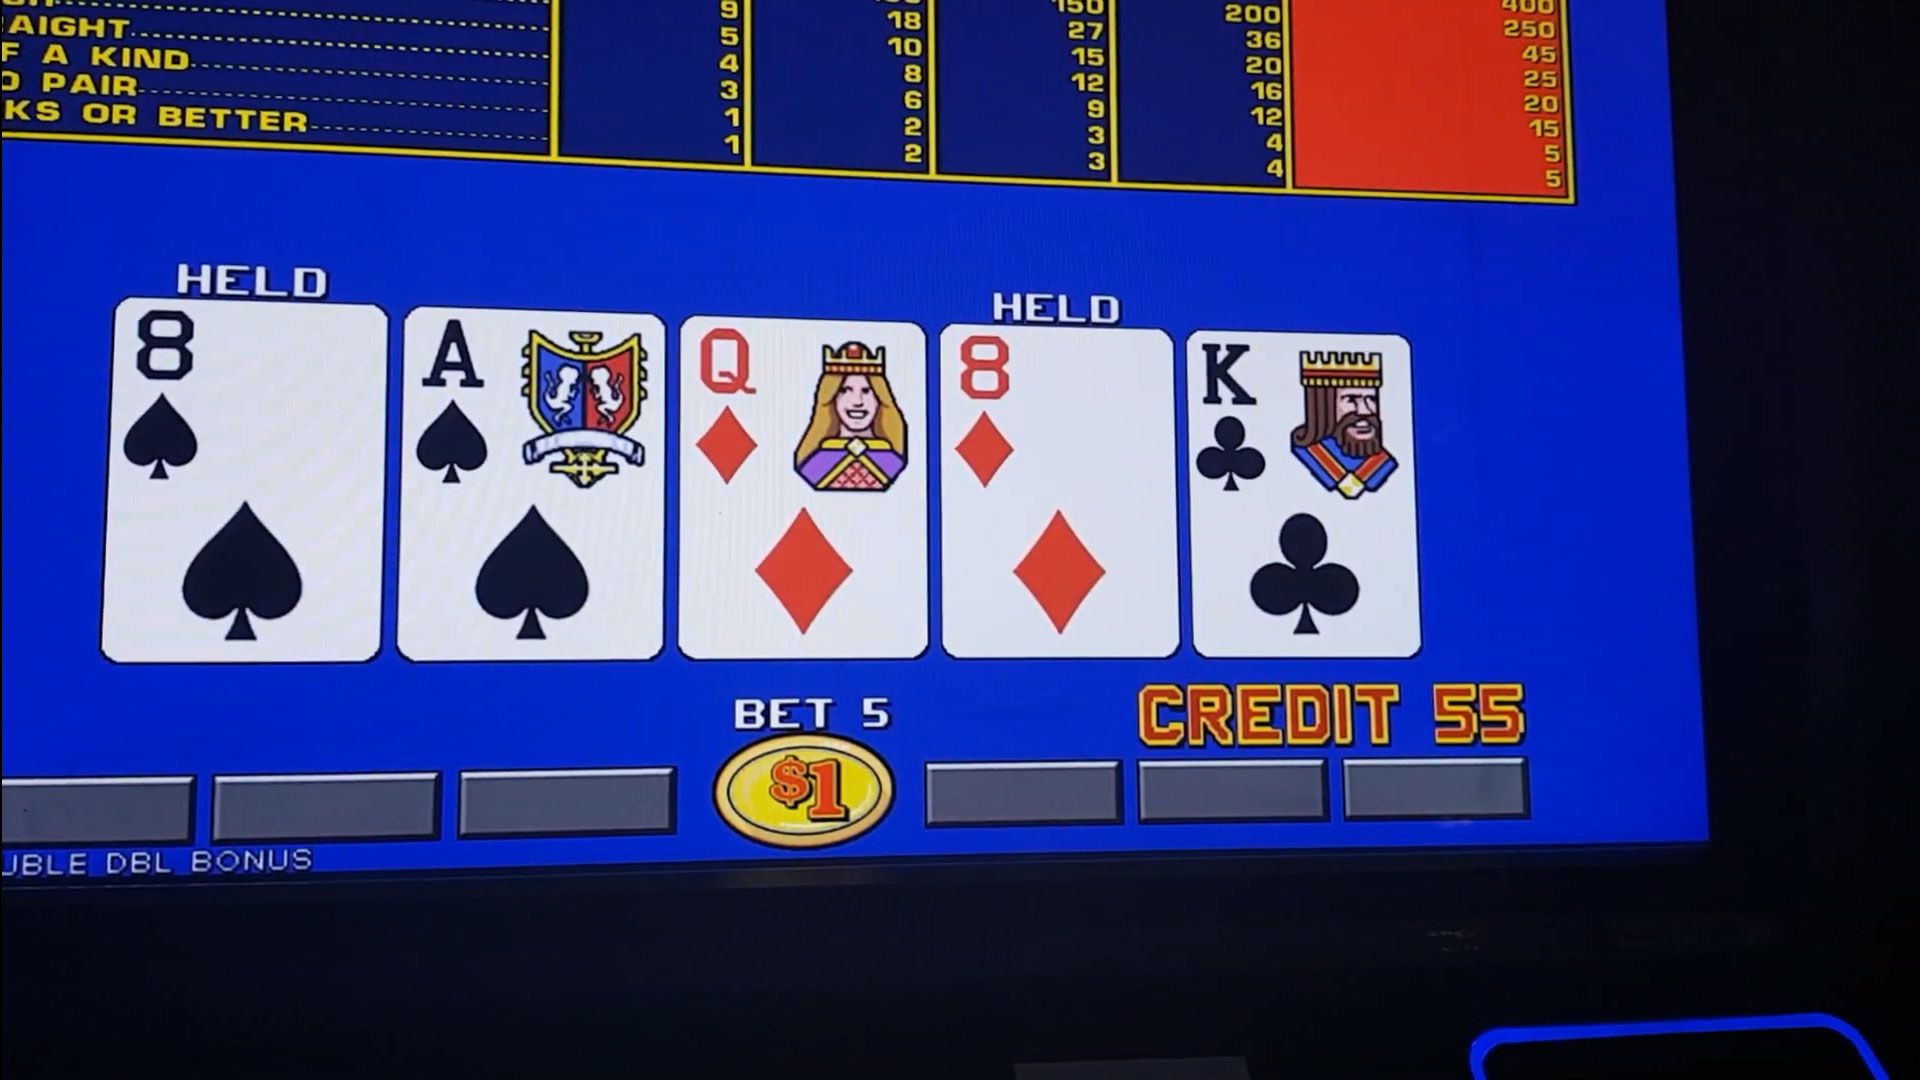CK: (1193, 339, 1407, 501)
D8: (945, 336, 1168, 500)
DQ: (688, 324, 922, 501)
S8: (119, 309, 377, 491)
SA: (407, 318, 661, 498)
